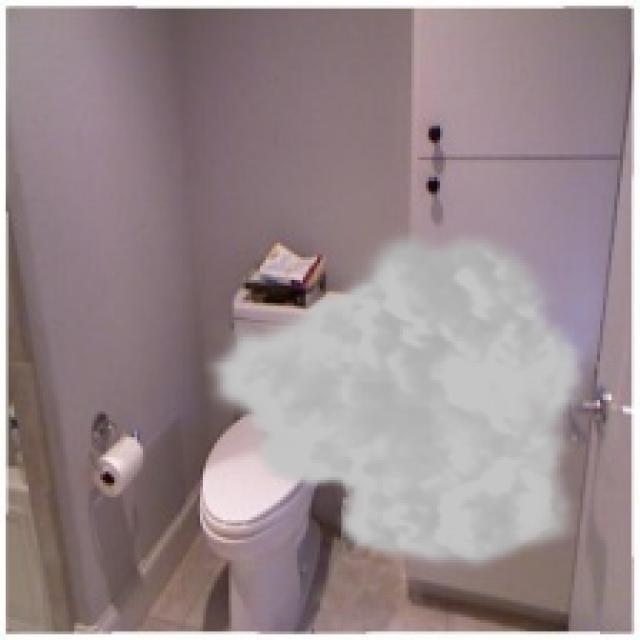Smoke: (200, 222, 589, 574)
